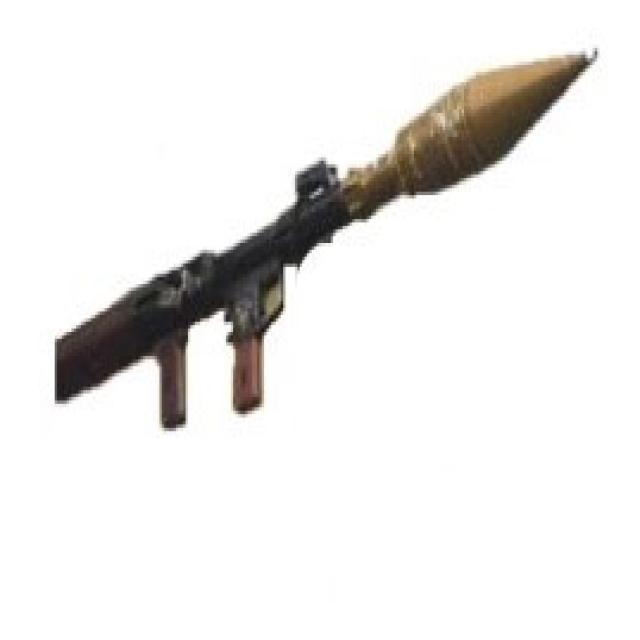bazooka: (32, 45, 606, 449)
